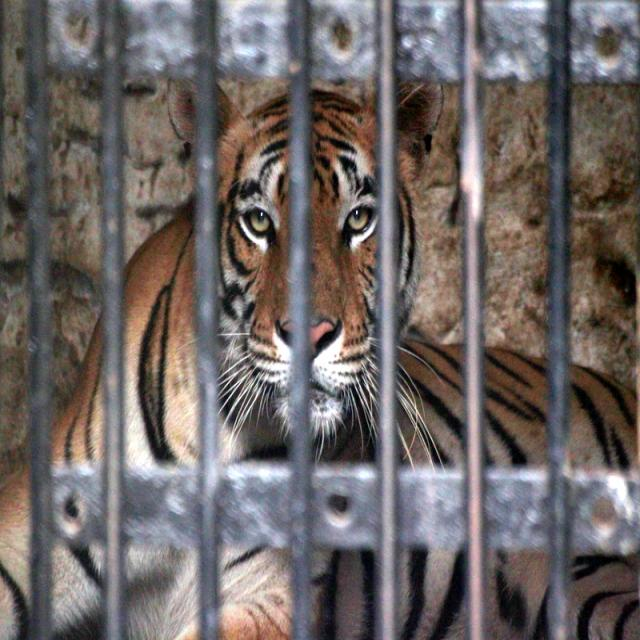Tiger: (0, 51, 636, 636)
